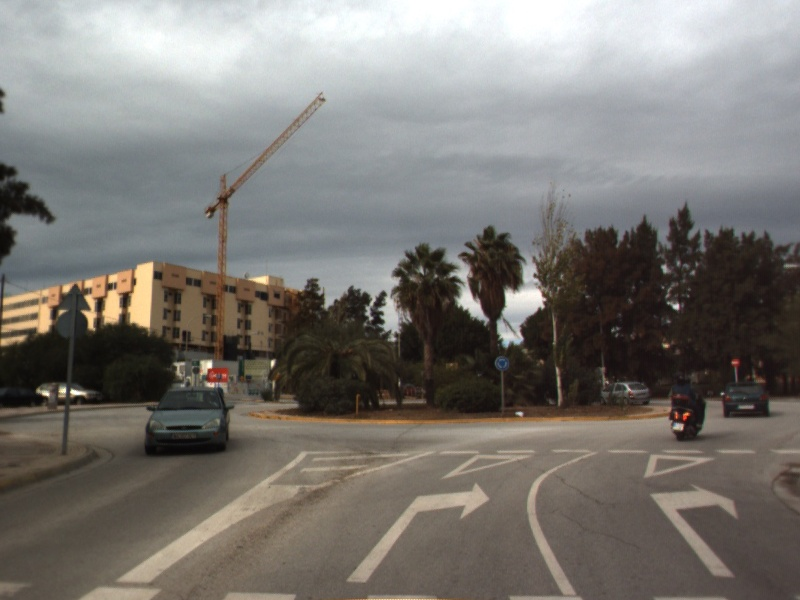RIGHT: (344, 481, 492, 584), (647, 482, 740, 579)
